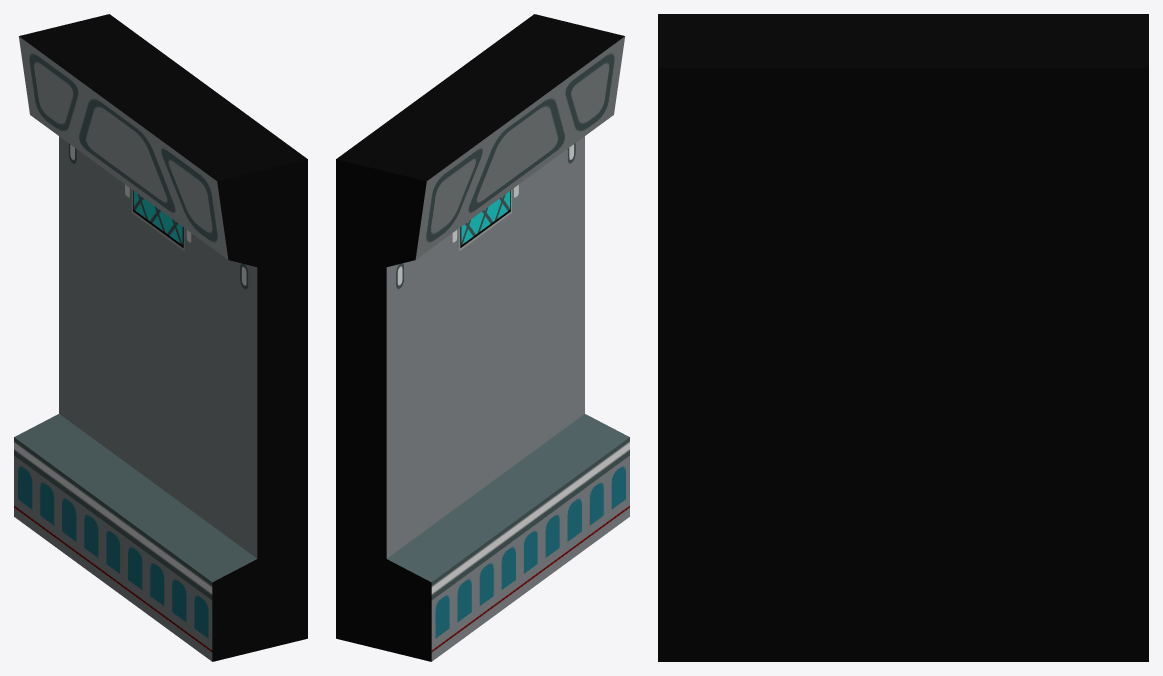
Rendered from P1_Simple2.fbx.
The picture shows the model from 3 angles, left to right: view 1: azimuth 30°, elevation 25°; view 2: azimuth 150°, elevation 25°; view 3: azimuth 270°, elevation 25°; orthographic projection. The views are drawn at different scales.
Visible parts, largest first — view 1: Cube.014; view 2: Cube.014; view 3: Cube.014.
Boxes of the visible parts, x1,y1,x2,y2 form: Cube.014: [14, 14, 307, 661]; Cube.014: [336, 14, 629, 661]; Cube.014: [658, 14, 1148, 661].
Bounding box in the file's own units: 83.32 × 300 × 400.
